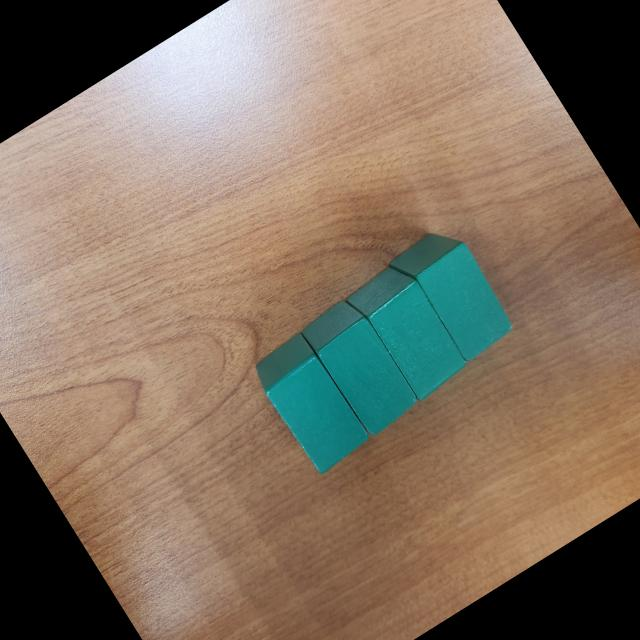green: (385, 220, 521, 374), (341, 256, 472, 406), (246, 328, 374, 477), (296, 292, 424, 441)
